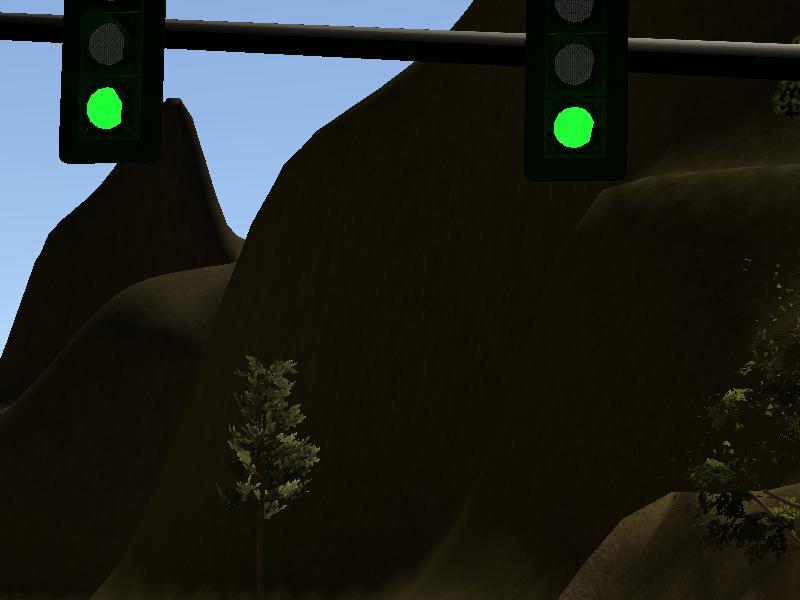Green: (524, 1, 629, 182), (60, 1, 166, 164)
